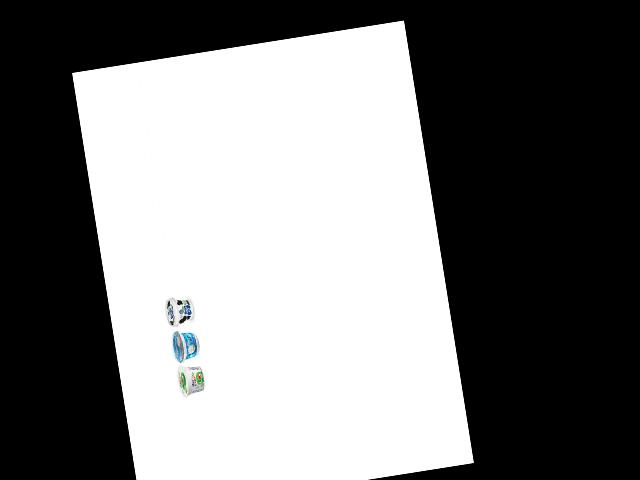cotage: (173, 361, 209, 400)
